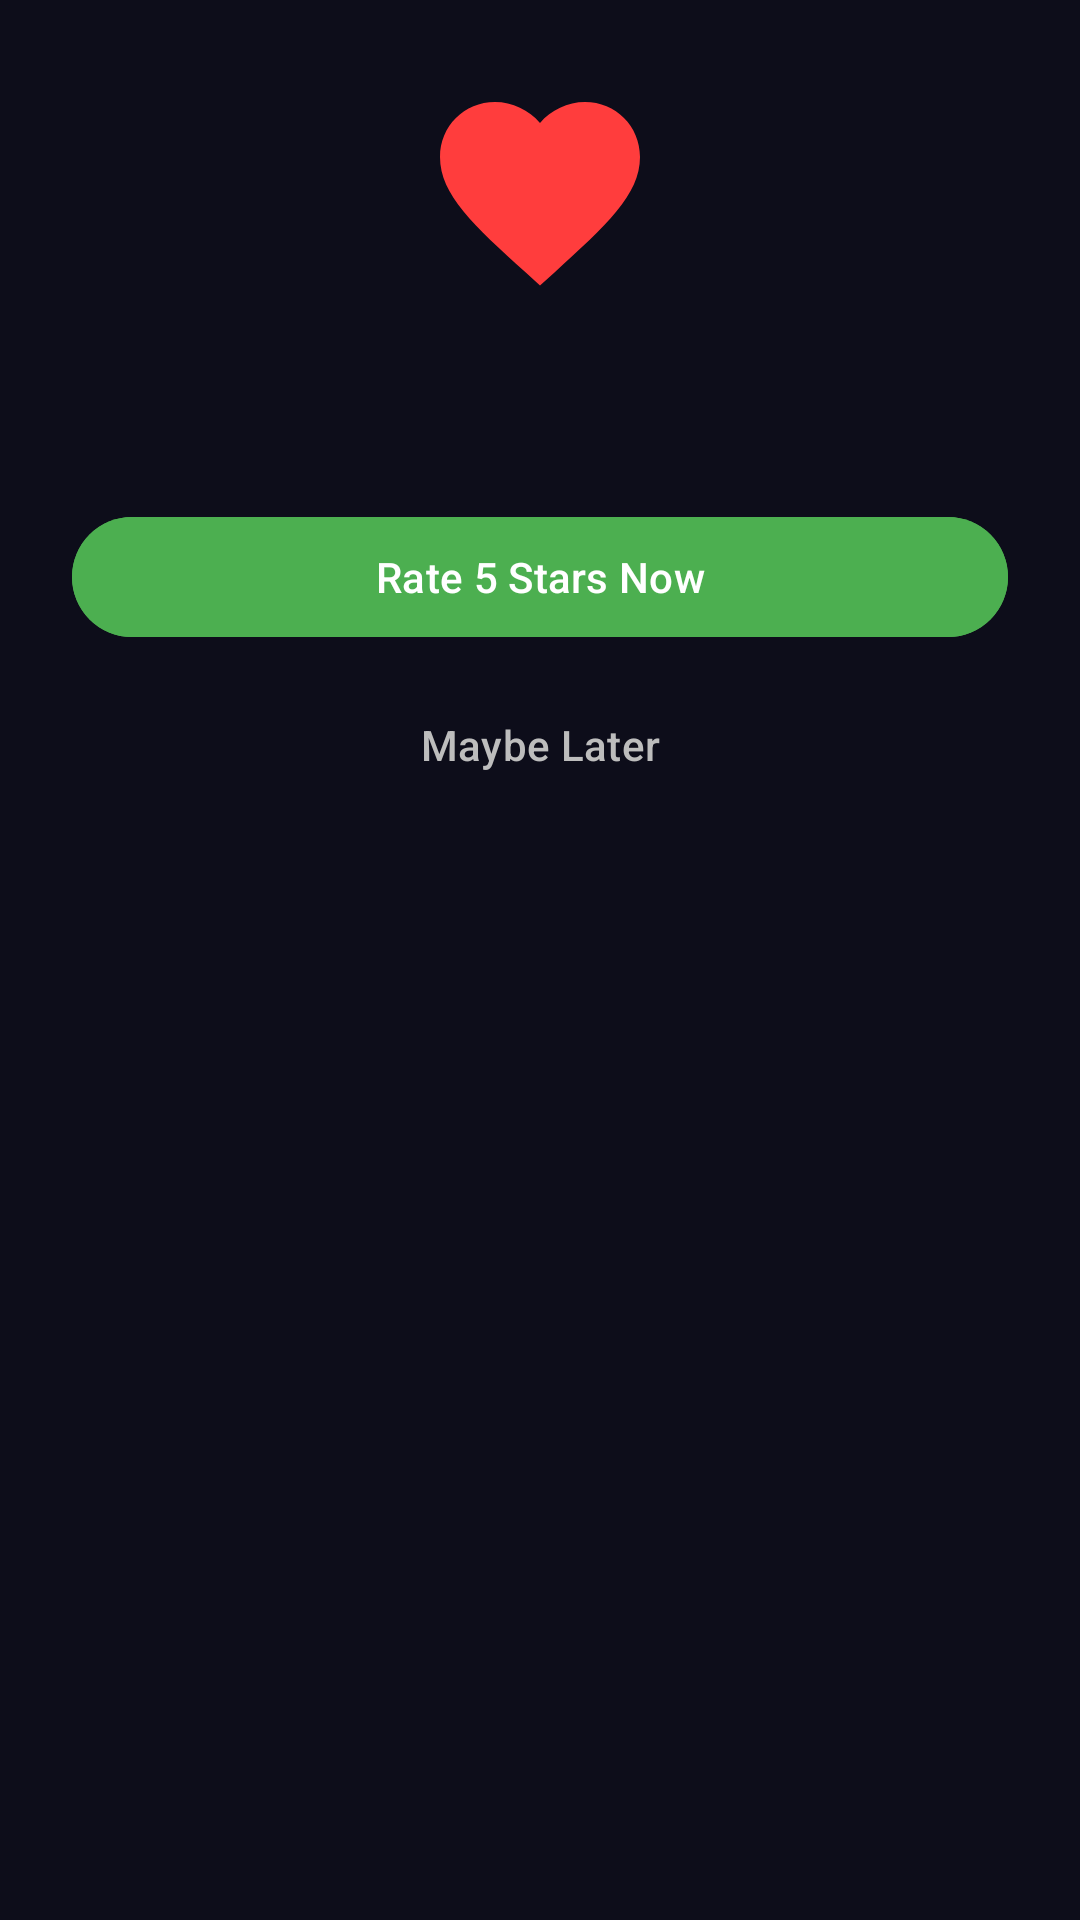

Icon bounding boxes for this 1080×1920 phone screenshot, format [x1, y1, x2, y2]:
heart: [440, 102, 640, 286]
